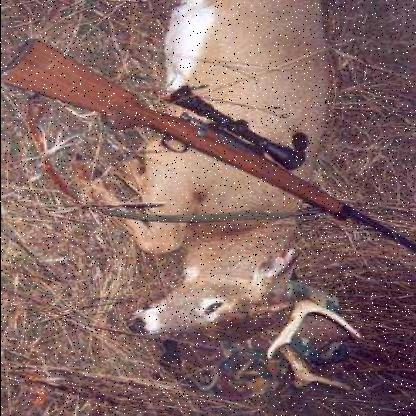rifle: (5, 33, 414, 250)
